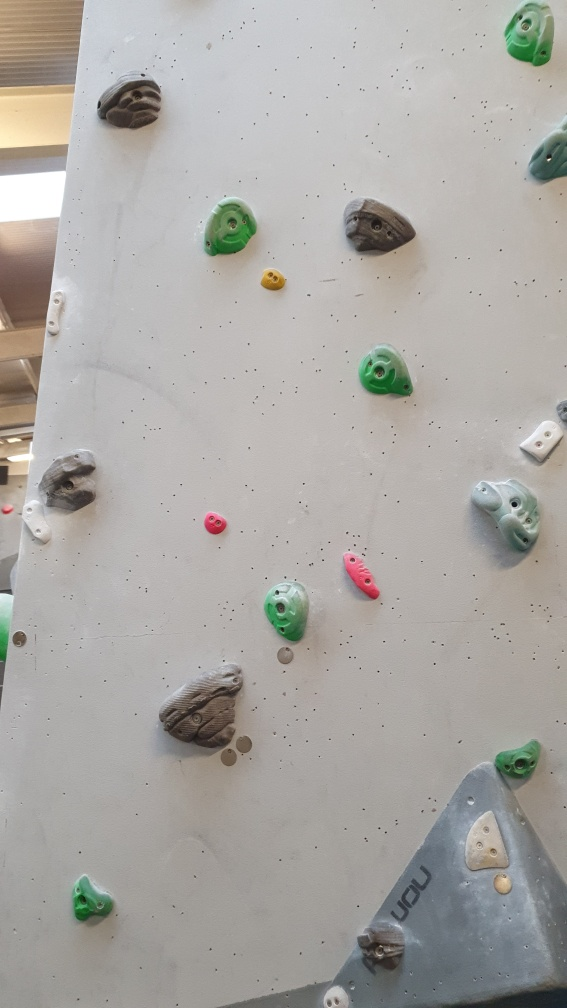Crimp: (520, 419, 564, 463), (44, 287, 67, 338)
Hand Start: (275, 645, 296, 669), (234, 731, 254, 753), (494, 875, 513, 895), (219, 748, 236, 769)
Jug: (154, 663, 245, 747), (471, 474, 542, 554), (336, 194, 420, 256), (37, 449, 103, 516), (95, 69, 164, 127), (203, 194, 262, 259), (501, 1, 555, 69), (354, 342, 414, 402), (260, 577, 310, 646), (494, 739, 541, 780)
